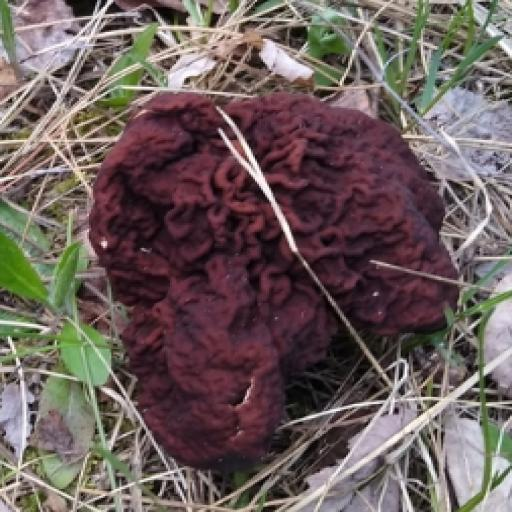mushroom: (8, 71, 381, 502)
